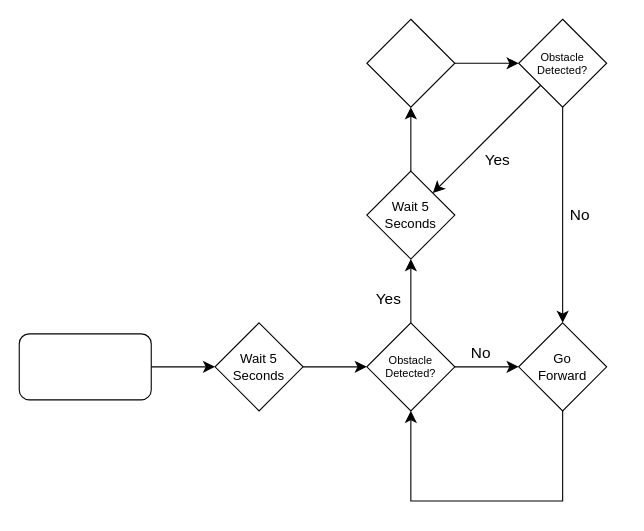
Image size: 644x531. Some labels were removed from this diagram. The shapes that lost their labels are listed below. From the top down, each one's centre as x and y in pixels, then its label:
(410,62): Turn Left
(84,366): Start
